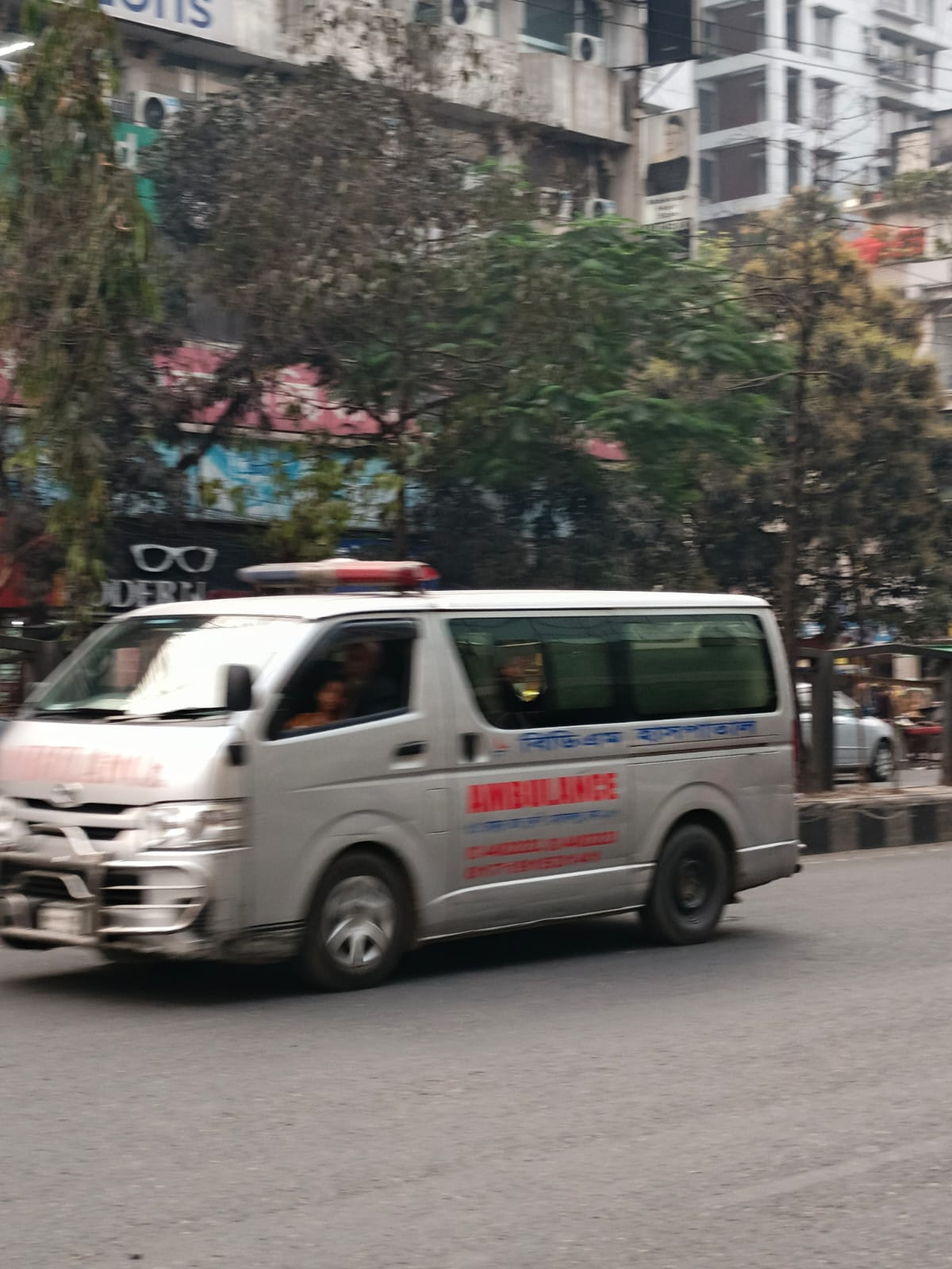Ambulance: (3, 521, 810, 991)
private car: (793, 667, 918, 826)
